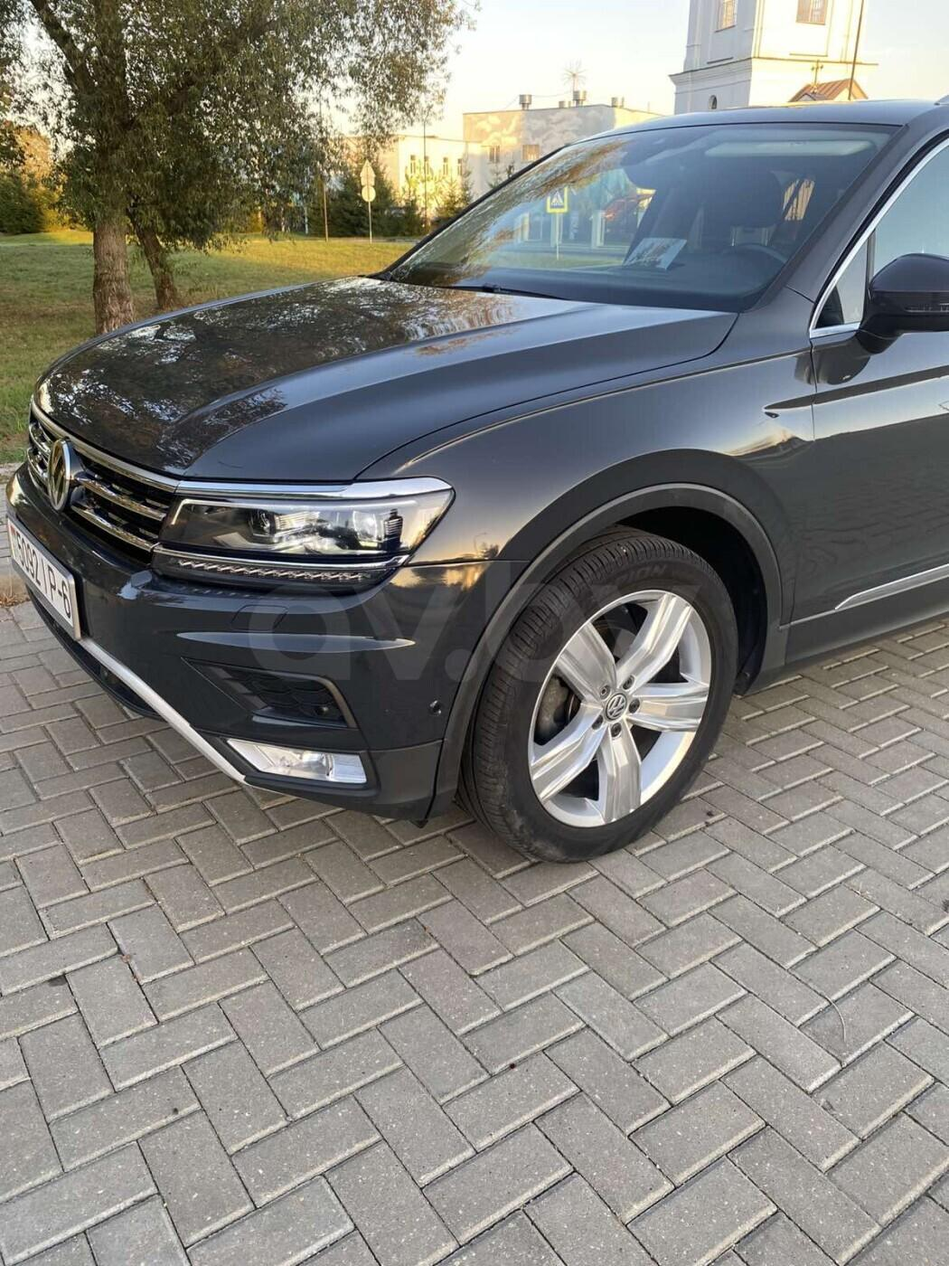Tiguan_2016-2021: (9, 101, 949, 872)
